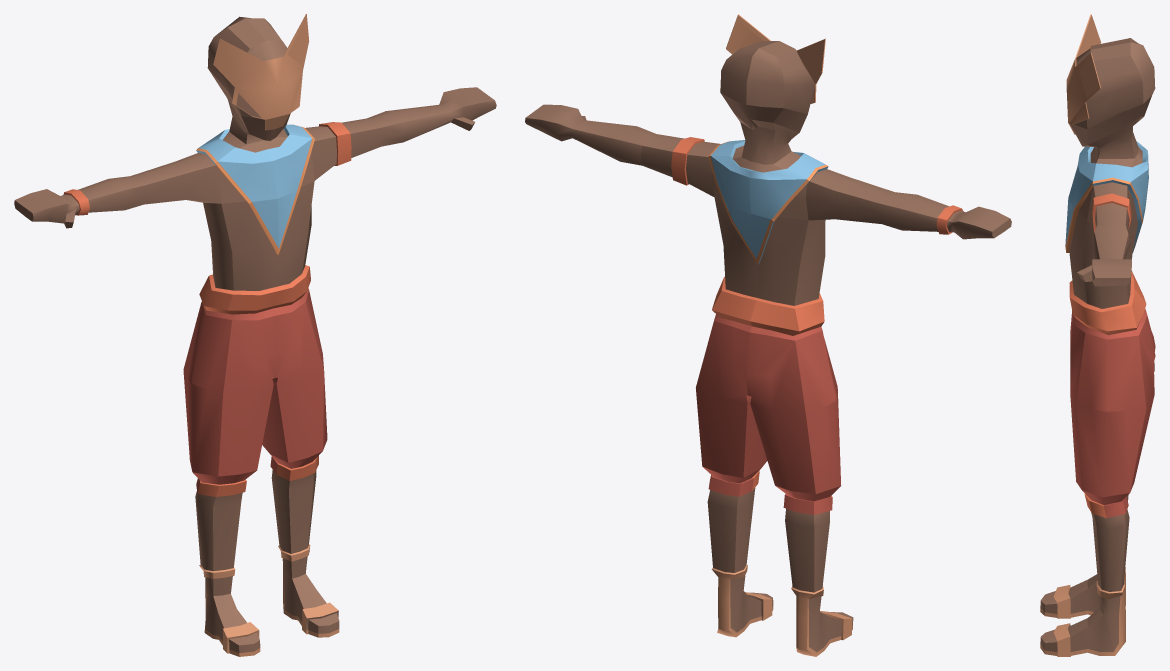
File: character_model.fbx
3 renders of one model, left to right at view 1: azimuth 30°, elevation 25°; view 2: azimuth 150°, elevation 25°; view 3: azimuth 270°, elevation 25°, orthographic. The views are drawn at different scales.
Parts seen in each view (by area): view 1: pCube3; view 2: pCube3; view 3: pCube3.
Boxes of the visible parts, box(x1,y1,x2,y2) form: pCube3: box(14, 14, 496, 656); pCube3: box(525, 14, 1011, 656); pCube3: box(1040, 14, 1155, 656).
Bounding box in the file's own units: 5.04 × 6.29 × 1.1.
